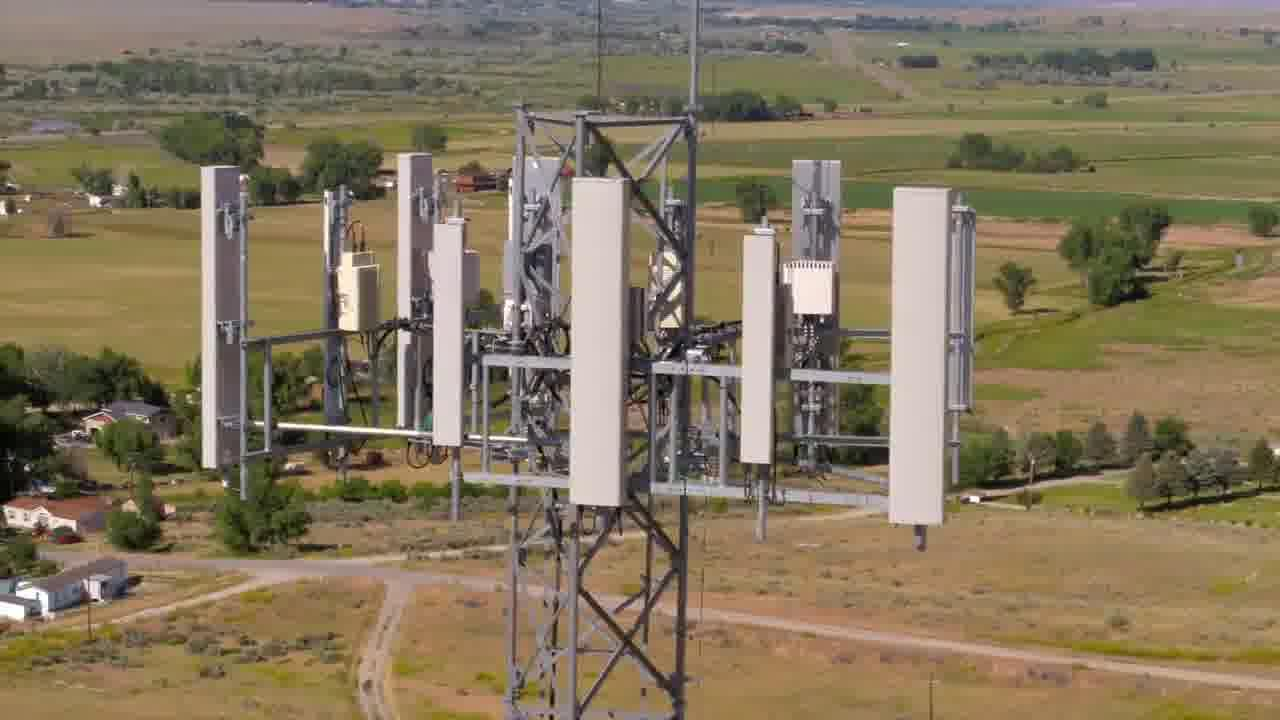antenna: (551, 175, 640, 519), (881, 179, 956, 534), (193, 157, 260, 488), (305, 187, 375, 423), (426, 209, 489, 463), (731, 225, 790, 479), (385, 155, 428, 427), (791, 145, 840, 374)
